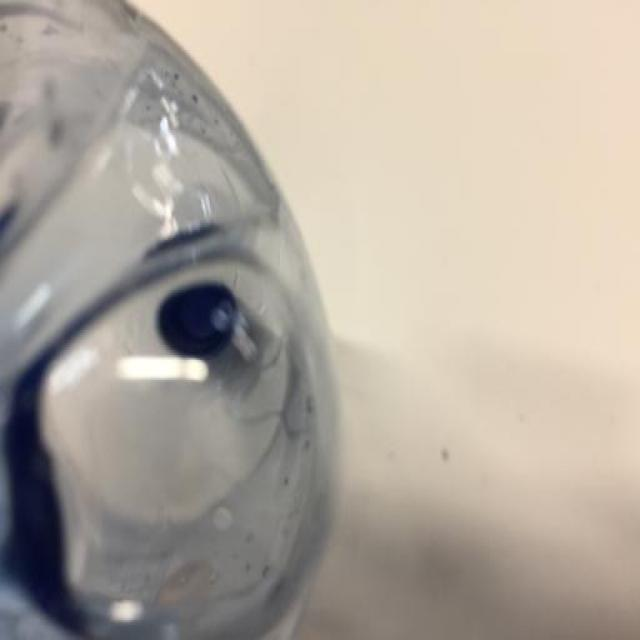plastic_bottle: (1, 1, 343, 640)
